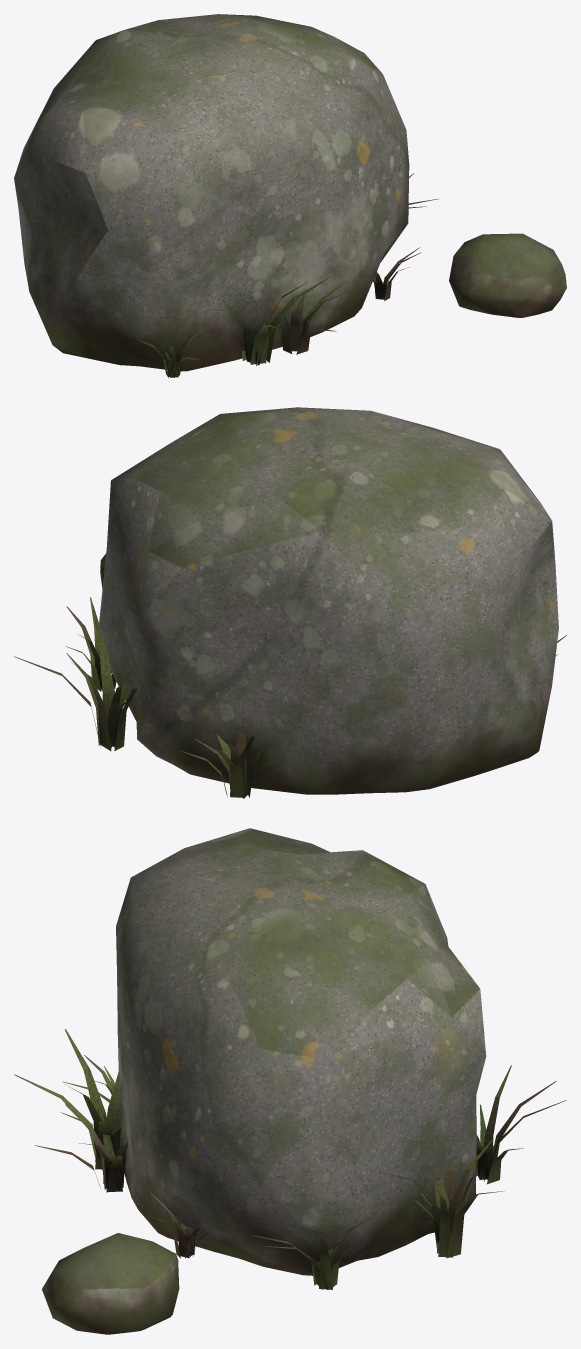
The model's file is boulder_a.glb.
3 views of the same model, one above another, from view 1: azimuth 30°, elevation 25°; view 2: azimuth 150°, elevation 25°; view 3: azimuth 270°, elevation 25° (orthographic). The views are drawn at different scales.
Visible parts, largest first — view 1: boulder_a_LOD0; view 2: boulder_a_LOD0; view 3: boulder_a_LOD0.
Part boxes in pixels (<box>): boulder_a_LOD0: <box>14,14,566,378</box>; boulder_a_LOD0: <box>14,407,566,798</box>; boulder_a_LOD0: <box>14,828,566,1334</box>.
Size of what is drawn, in the model's own units: 1.9 by 1.05 by 1.72.
1 material, 1 textured.
